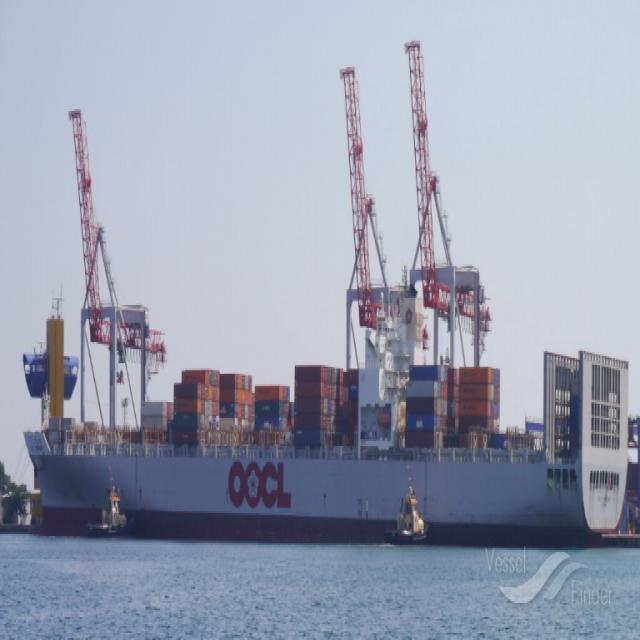Container Ship: (24, 285, 628, 541)
tugboat: (387, 472, 428, 544), (86, 477, 127, 538)
